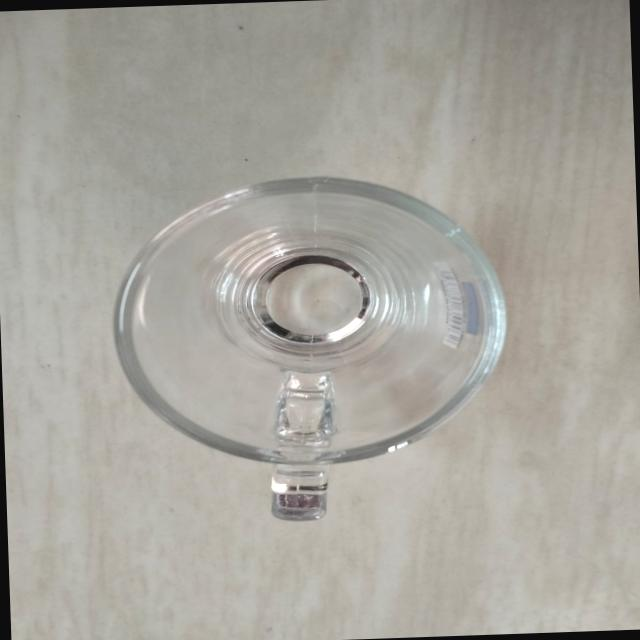glass-VX4N: (102, 167, 520, 530)
